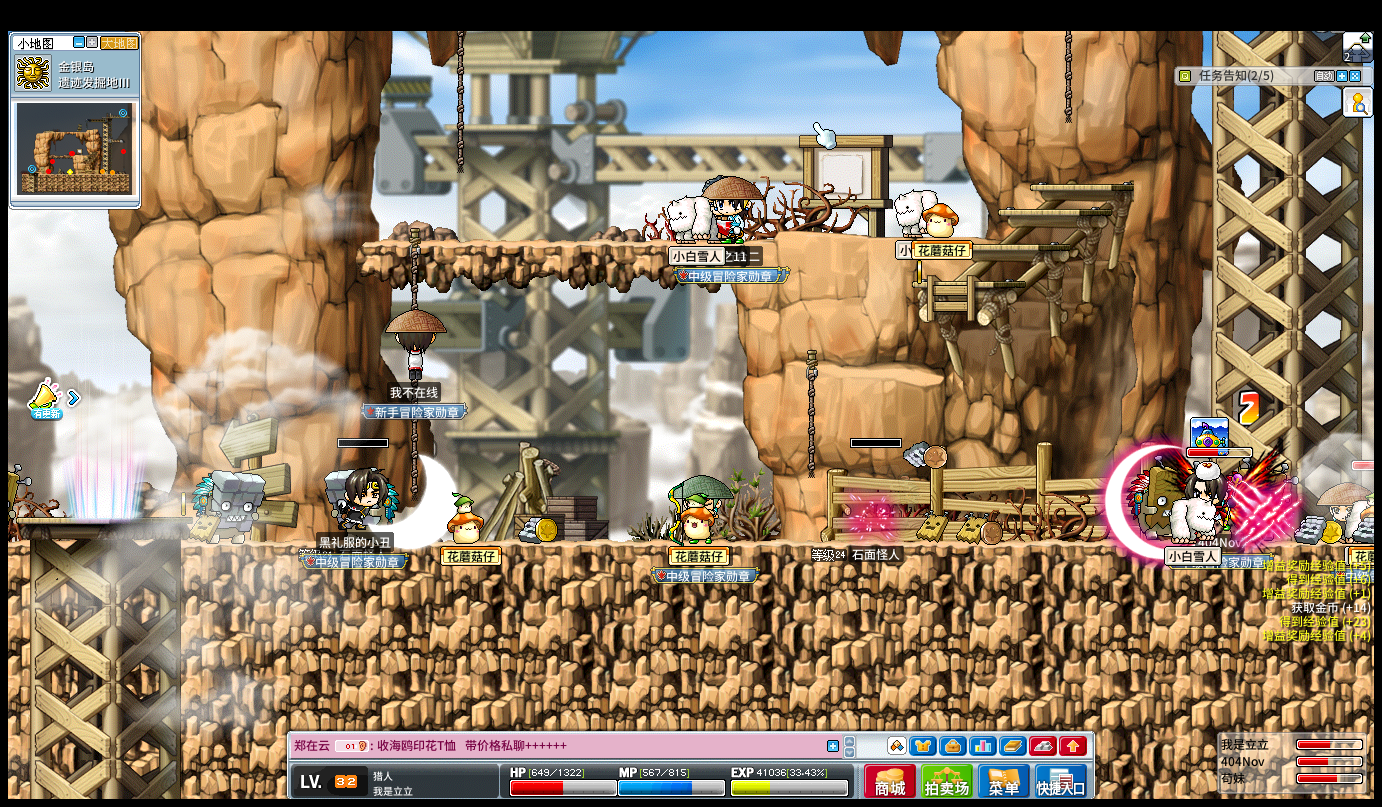floor: (357, 239, 734, 249), (835, 364, 944, 384), (16, 514, 190, 523), (996, 207, 1111, 215), (965, 242, 1068, 250), (910, 281, 1023, 288), (1029, 184, 1134, 191)
monster: (191, 471, 265, 543), (1124, 458, 1181, 544), (3, 465, 36, 518)
rope: (805, 351, 817, 478), (455, 29, 464, 169), (405, 226, 418, 309), (1062, 30, 1071, 121)
